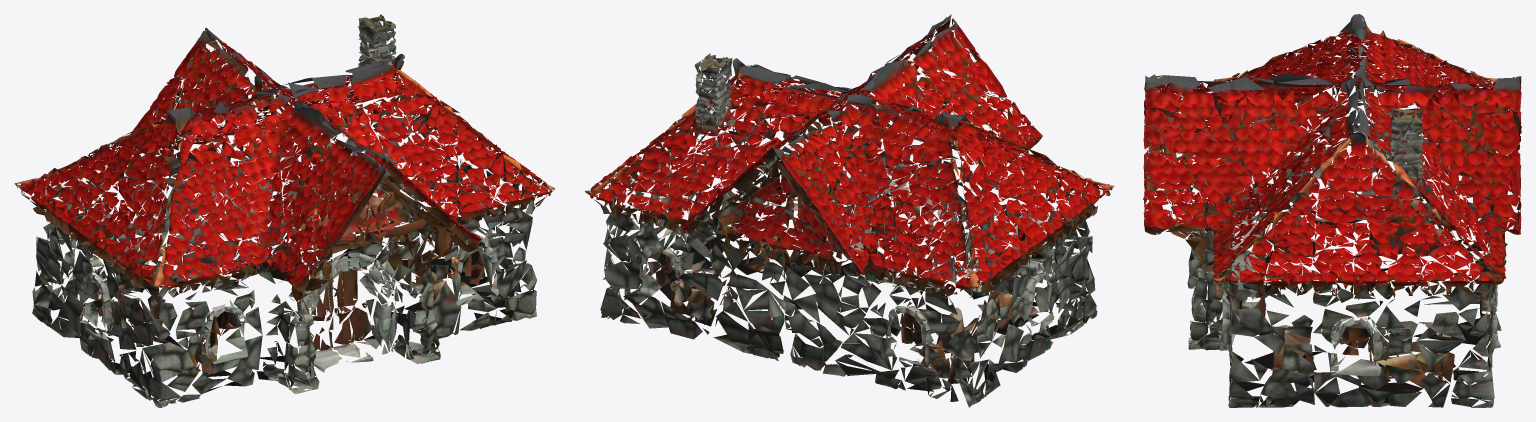
Rendered from stone_depot.glb.
3 renders of one model, left to right at view 1: azimuth 30°, elevation 25°; view 2: azimuth 150°, elevation 25°; view 3: azimuth 270°, elevation 25°, orthographic. The views are drawn at different scales.
Visible parts, largest first — view 1: Mesh_0; view 2: Mesh_0; view 3: Mesh_0.
Boxes of the visible parts, left/top/right/bottom form: Mesh_0: left=14, top=14, right=554, bottom=407; Mesh_0: left=585, top=14, right=1114, bottom=407; Mesh_0: left=1143, top=14, right=1521, bottom=407.
Bounding box in the file's own units: 1.65 × 1 × 1.31.
Materials: 1 (1 with a texture image).
